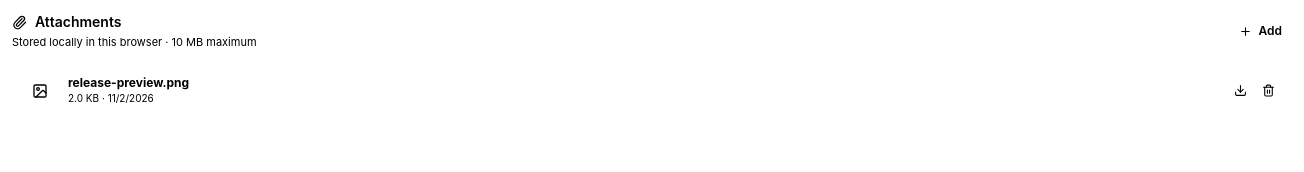
AttachmentSection › announces a missing local attachment instead of opening an empty dialog
Click the button named "Preview release-preview.png": (40,90) x1=22 y1=72 x2=58 y2=108
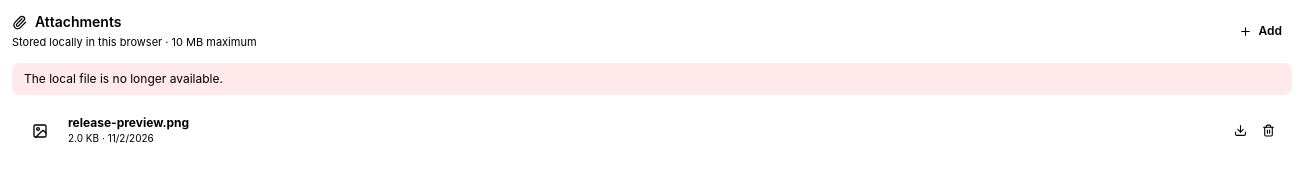
Result: the message reads "The local file is no longer available." at x1=24 y1=70 x2=223 y2=86
